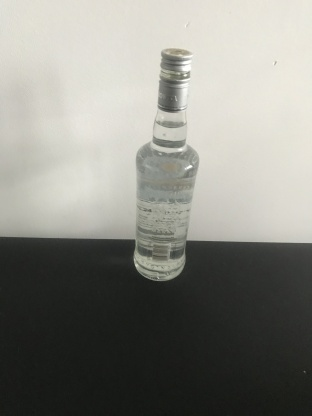nakretka: (156, 46, 194, 112)
